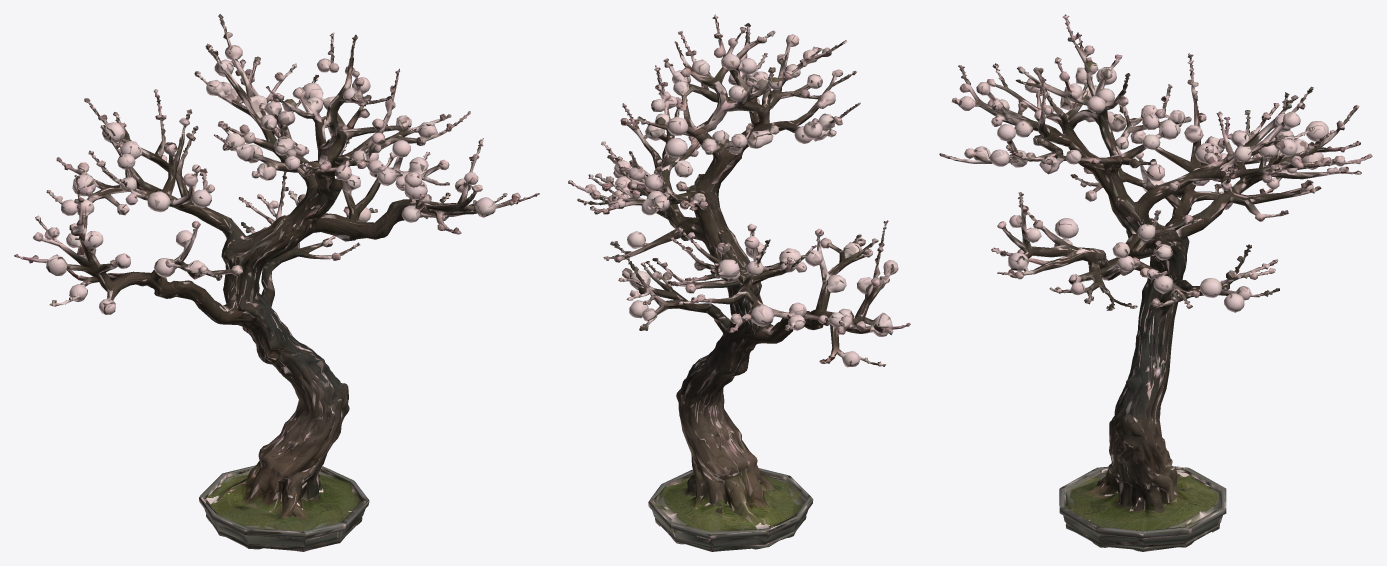
File: plumTreeA-compressed.glb
3 views of the same model, side by side, from view 1: azimuth 30°, elevation 25°; view 2: azimuth 150°, elevation 25°; view 3: azimuth 270°, elevation 25° (orthographic). The views are drawn at different scales.
Visible parts, largest first — view 1: node_0; view 2: node_0; view 3: node_0.
Boxes of the visible parts, x1,y1,x2,y2 form: node_0: (14, 14, 539, 551); node_0: (568, 14, 910, 551); node_0: (939, 14, 1372, 551).
Bounding box in the file's own units: 2.26 × 2.5 × 2.05.
1 material, 1 textured.
